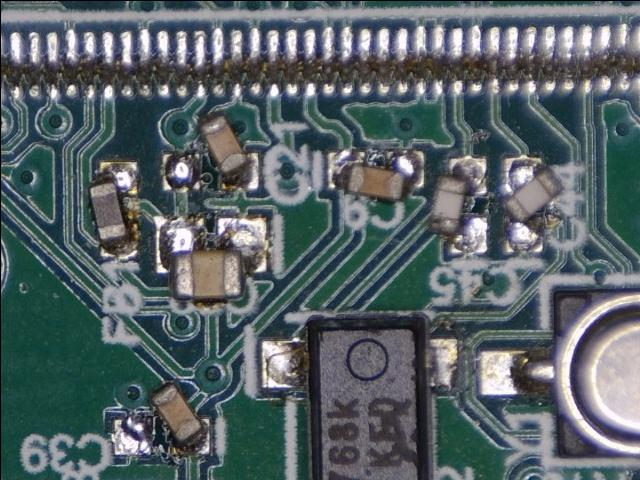Incorrect_installation: (152, 215, 268, 301), (161, 113, 259, 192), (111, 382, 211, 457), (499, 155, 568, 255), (426, 154, 489, 256), (87, 159, 140, 258), (327, 149, 425, 200)
